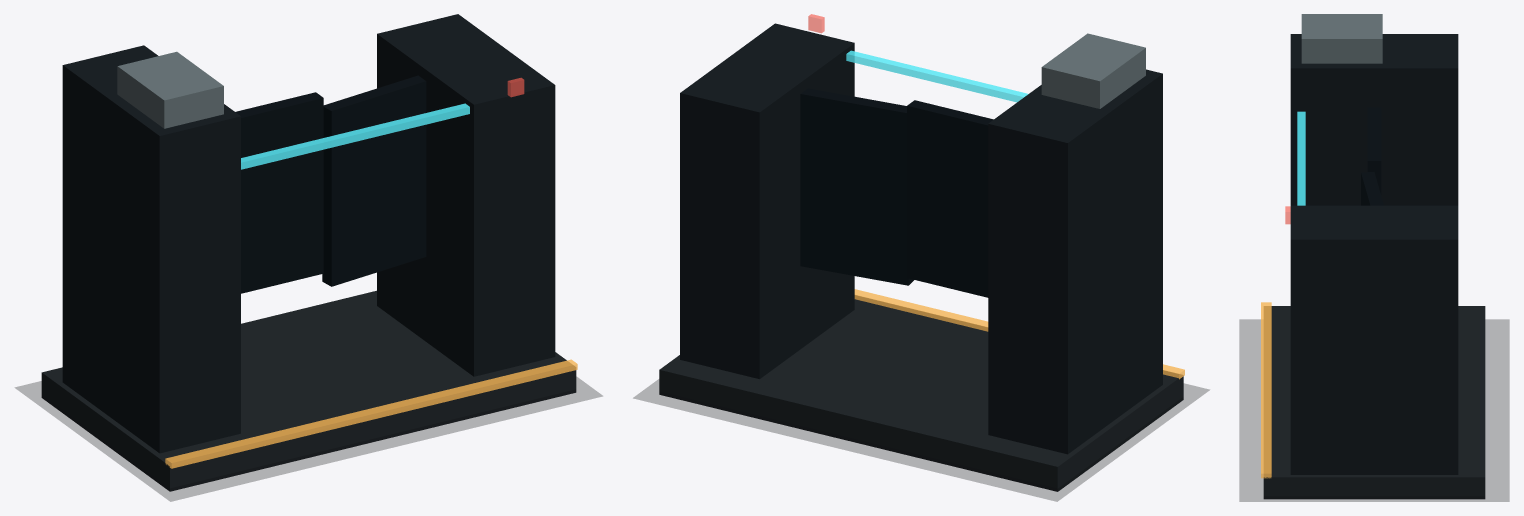
File: hp_room_cyber_gate_turnstile.glb
The picture shows the model from 3 angles, left to right: view 1: azimuth 30°, elevation 25°; view 2: azimuth 150°, elevation 25°; view 3: azimuth 270°, elevation 25°; orthographic projection. The views are drawn at different scales.
Visible parts, largest first — view 1: pillar_left, pillar_right, base_wet_plinth, blade_glass_right, blade_glass_left, contact_shadow, scanner_head, lane_amber_edge, scan_cyan_line; view 2: pillar_left, pillar_right, base_wet_plinth, blade_glass_right, blade_glass_left, contact_shadow, scanner_head, scan_cyan_line, lane_amber_edge; view 3: pillar_right, pillar_left, base_wet_plinth, contact_shadow, scanner_head, lane_amber_edge, blade_glass_left, scan_cyan_line, blade_glass_right.
Part boxes in pixels (x1,y1,x2,y2): pillar_left: [62, 45, 240, 453]; pillar_right: [377, 14, 555, 376]; base_wet_plinth: [41, 290, 576, 491]; blade_glass_right: [322, 75, 426, 286]; blade_glass_left: [235, 92, 323, 293]; contact_shadow: [15, 377, 602, 501]; scanner_head: [117, 51, 223, 128]; lane_amber_edge: [165, 359, 577, 468]; scan_cyan_line: [241, 103, 469, 169]; pillar_left: [988, 69, 1162, 454]; pillar_right: [680, 23, 854, 379]; base_wet_plinth: [659, 295, 1183, 491]; blade_glass_right: [800, 88, 913, 285]; blade_glass_left: [907, 100, 993, 297]; contact_shadow: [633, 379, 1209, 501]; scanner_head: [1041, 33, 1145, 108]; scan_cyan_line: [846, 50, 1028, 102]; lane_amber_edge: [854, 289, 1184, 379]; pillar_right: [1290, 205, 1458, 474]; pillar_left: [1290, 34, 1458, 205]; base_wet_plinth: [1263, 306, 1485, 499]; contact_shadow: [1239, 319, 1509, 501]; scanner_head: [1301, 14, 1382, 63]; lane_amber_edge: [1261, 302, 1271, 478]; blade_glass_left: [1367, 107, 1381, 194]; scan_cyan_line: [1297, 111, 1305, 205]; blade_glass_right: [1361, 172, 1383, 205].
Size of the model in its own units: 1.6 by 1.31 by 1.
